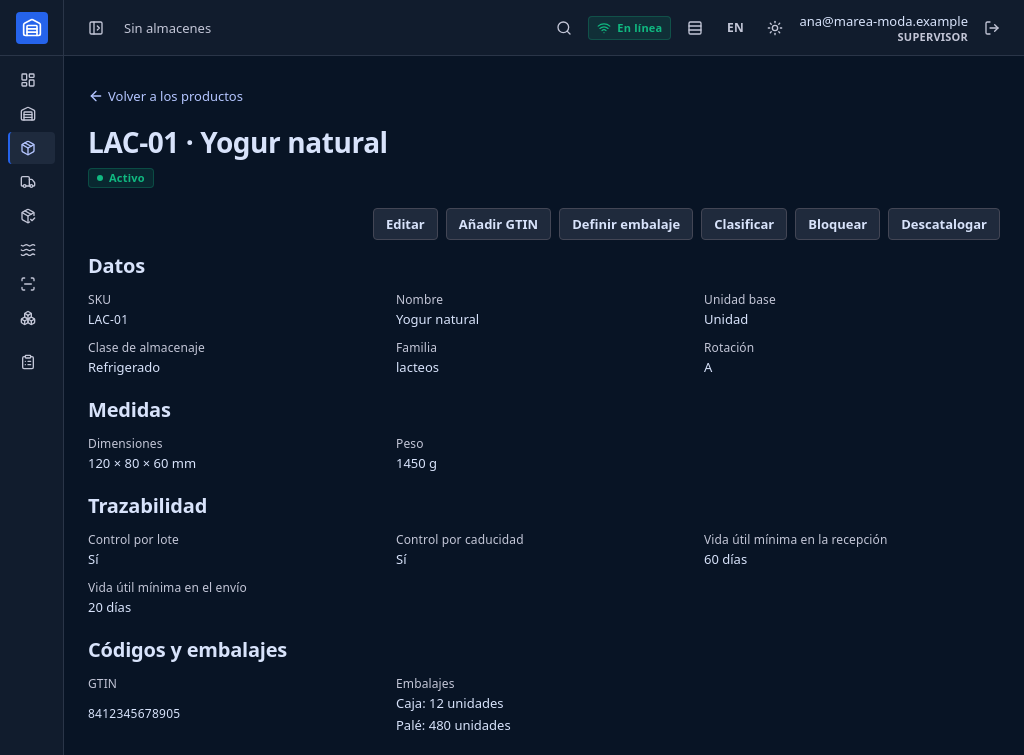
it: one product › keeps the dialog open and says why when the API refuses
Click the button "Bloquear".
click(838, 224)  # box [795,208,880,240]
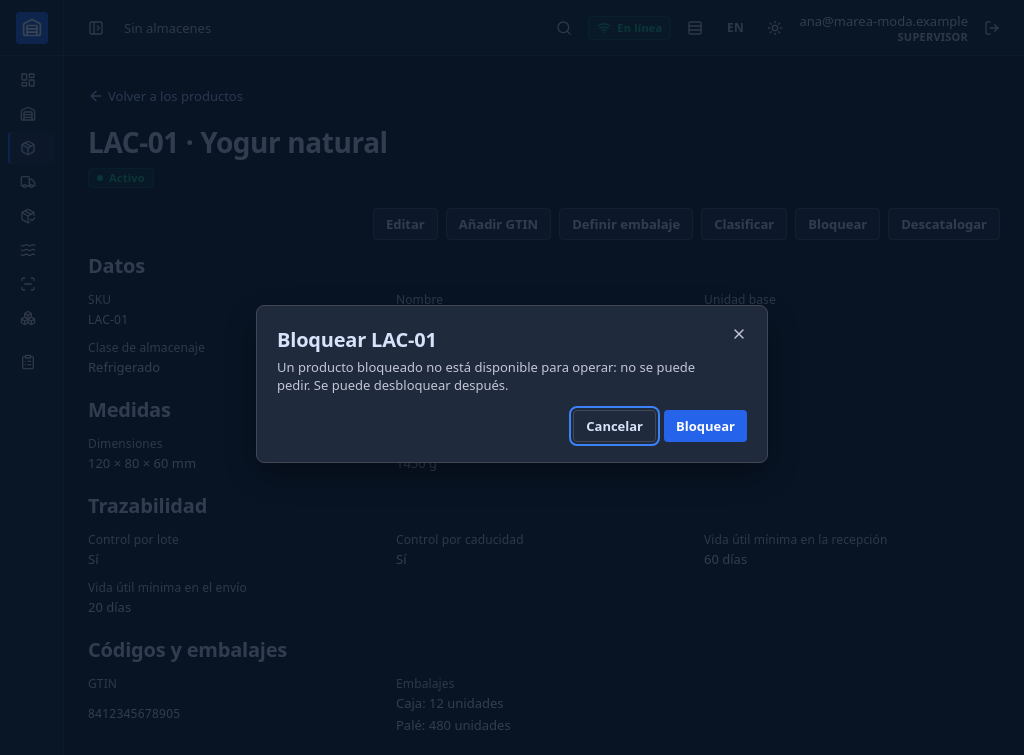
Click the button "Bloquear".
click(706, 426)  # box [664,410,747,442]
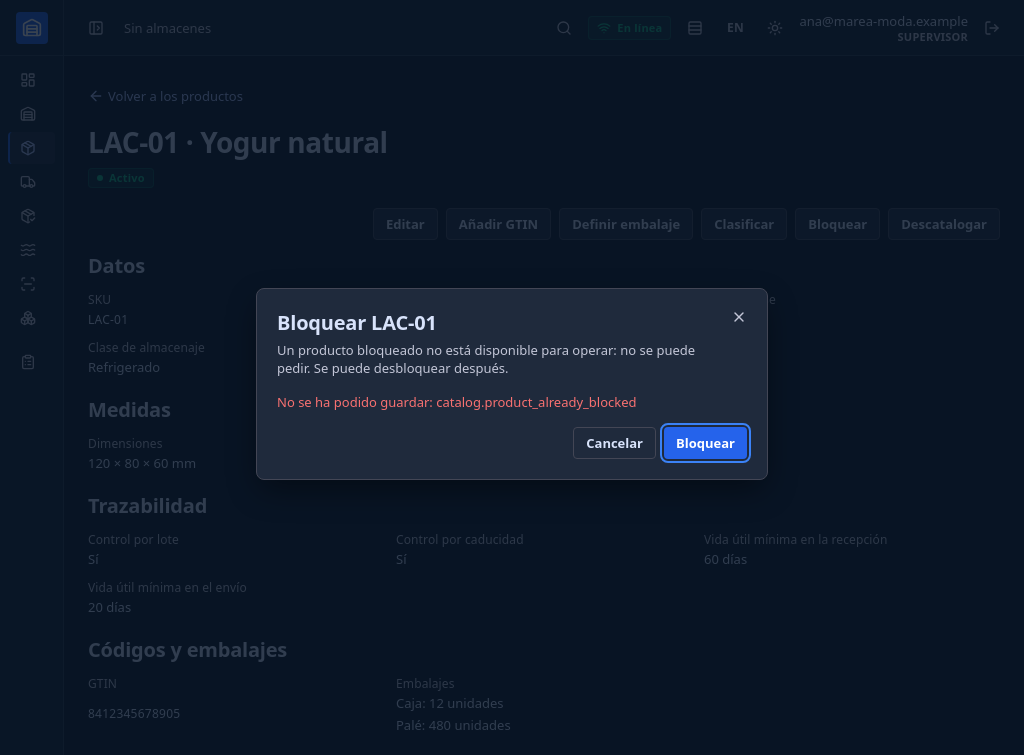
Expected: the message shows "No se ha podido guardar", [277,393,637,411]
